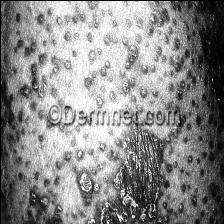Non-Cancerous Skin Condition: (63, 124, 168, 224), (179, 2, 224, 224), (100, 33, 136, 76)
